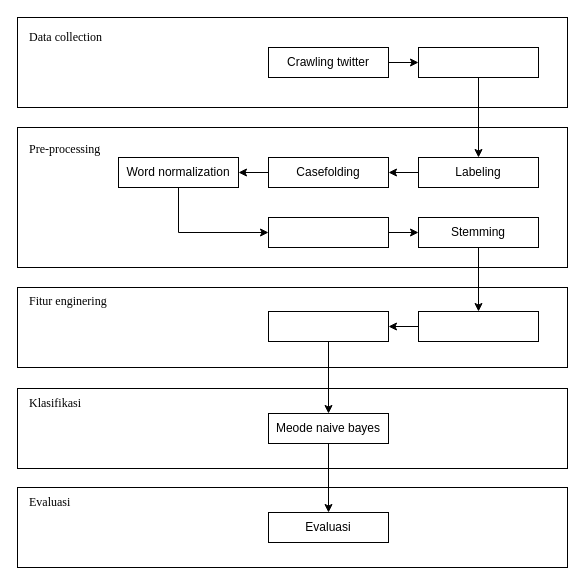
The diagram is 585 pixels wide and 585 high, and some of its shapes have lost their labels. Here are the shapes that lost their labels. From the top down, the box of each, then its label:
(418, 46, 538, 78): Tweet data frame
(268, 216, 388, 248): Filtering
(268, 310, 388, 342): Seleksi fitur
(418, 310, 538, 342): Ekstraksi fitur
